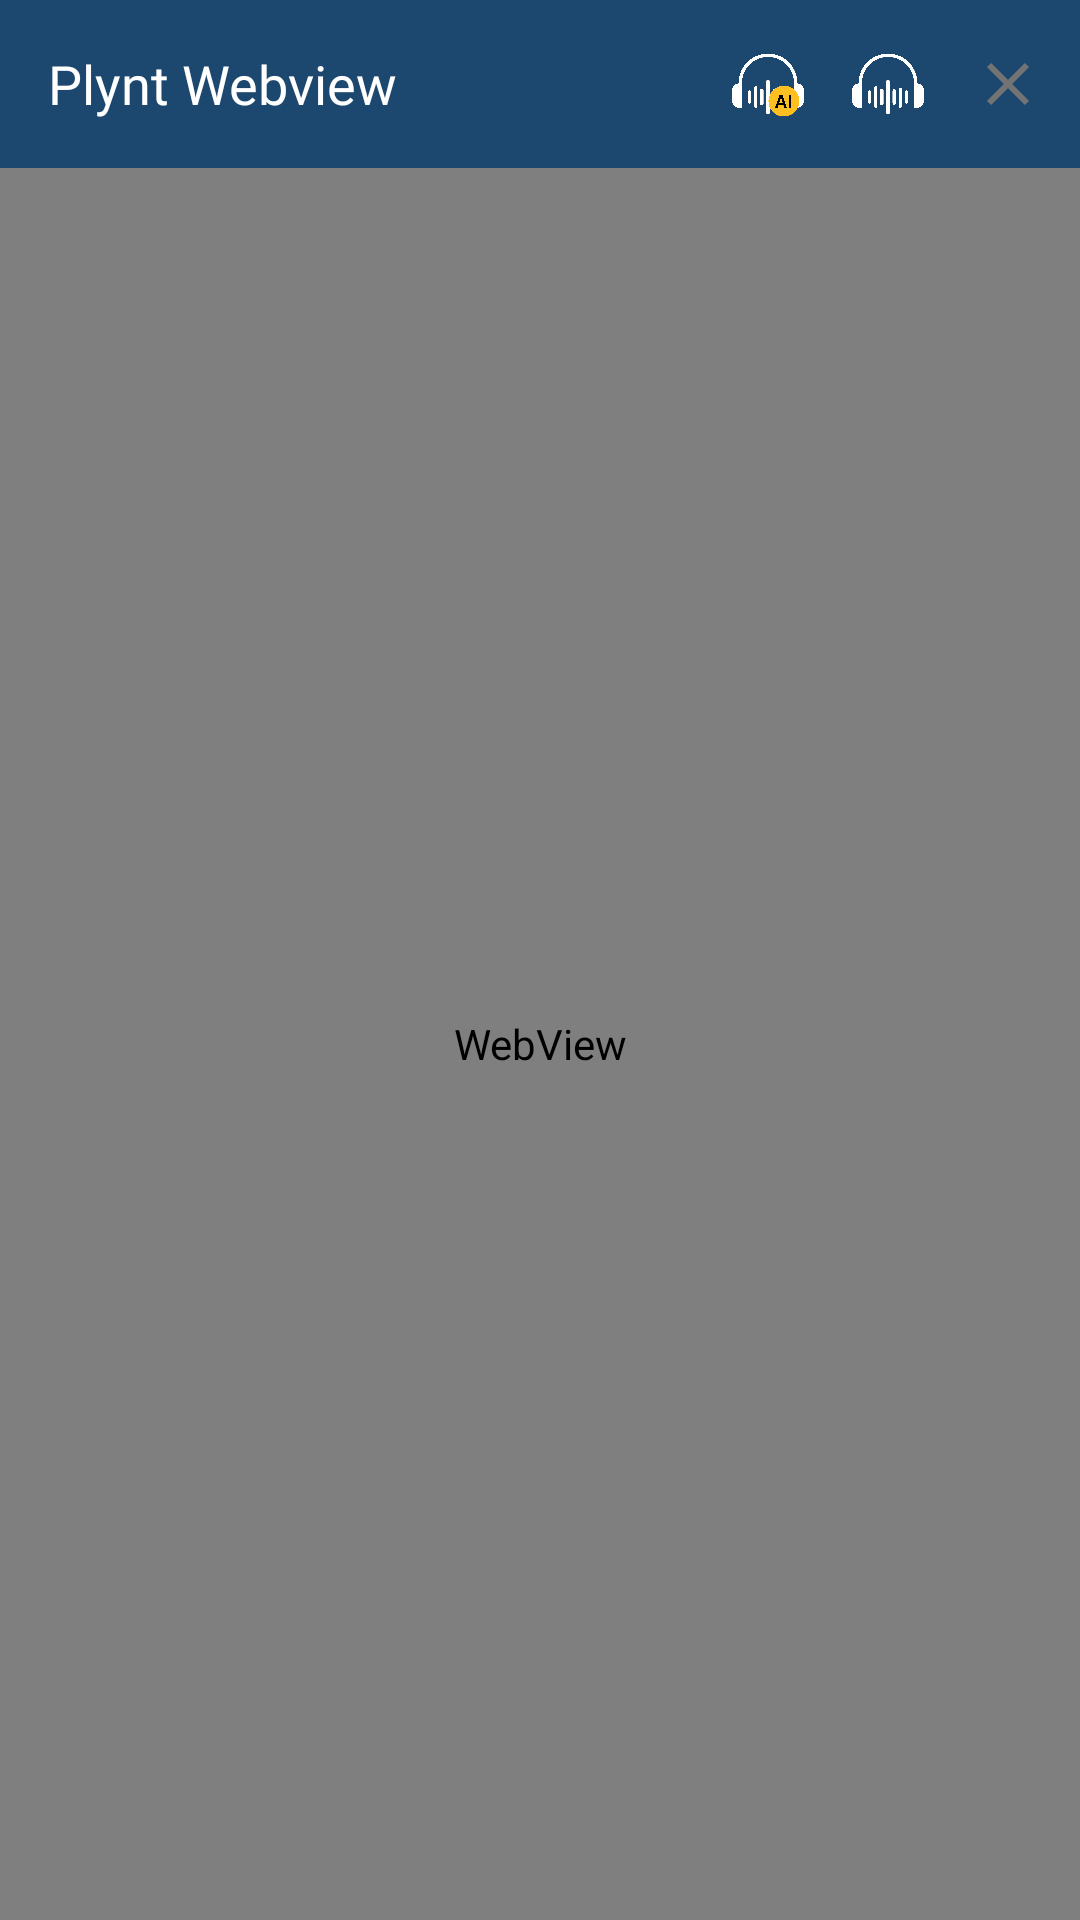

Icons on this 1080x1920 Android screen, each with the point to tap as (x,y):
Close: (1008,84)
read news: (888,84)
Read news analysis: (768,85)
